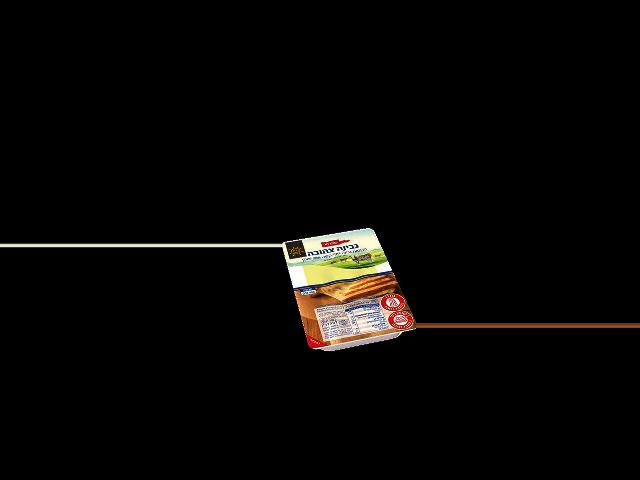cheese: (293, 229, 396, 348)
